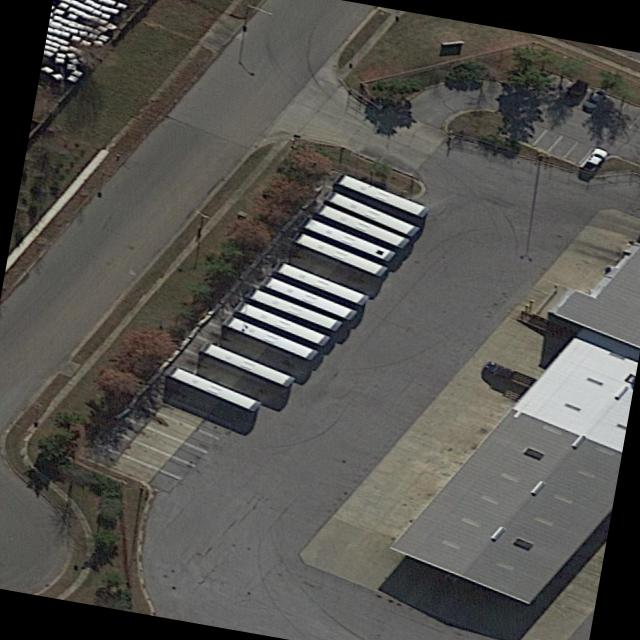large-vehicle: (322, 188, 419, 236), (220, 311, 317, 359), (258, 273, 357, 319), (232, 298, 328, 345), (198, 340, 295, 386), (167, 364, 260, 410), (301, 215, 394, 260), (316, 202, 408, 247), (334, 172, 428, 216), (249, 286, 342, 330), (293, 231, 386, 275), (275, 261, 368, 304)
small-vehicle: (578, 144, 609, 172), (560, 75, 591, 102), (579, 86, 609, 110)
